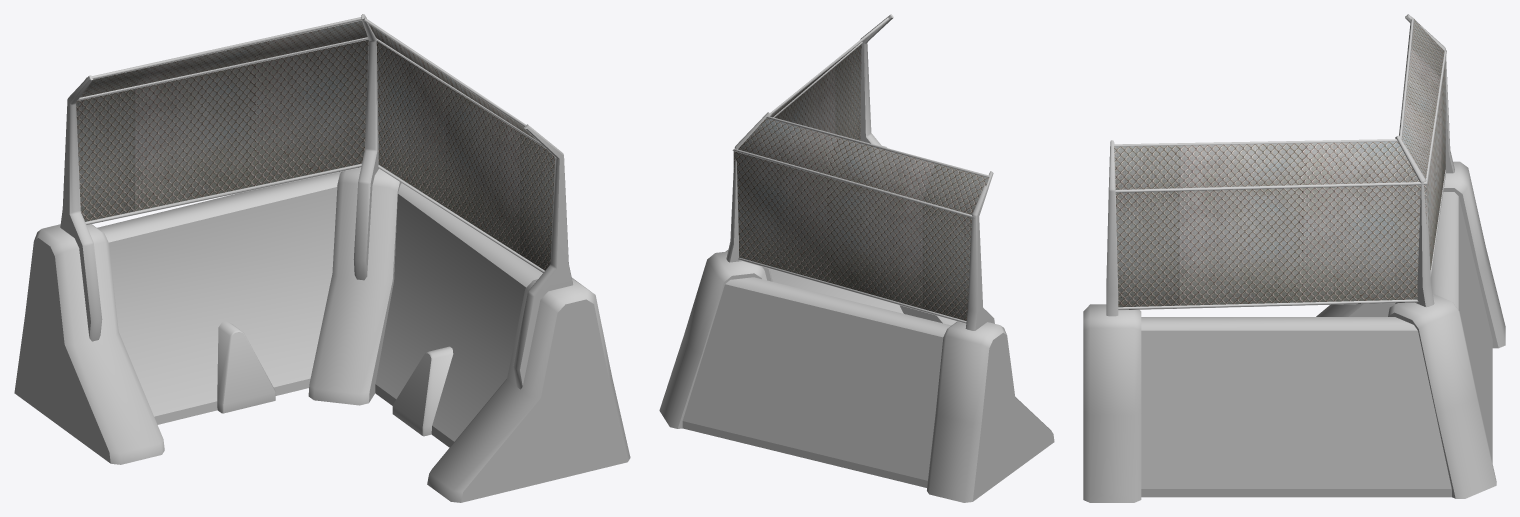
File: WallFence_angle90.fbx
3 views of the same model, side by side, from view 1: azimuth 30°, elevation 25°; view 2: azimuth 150°, elevation 25°; view 3: azimuth 270°, elevation 25° (orthographic). The views are drawn at different scales.
Parts seen in each view (by area): view 1: WallFence, fence06, fence07; view 2: WallFence, fence06, fence07; view 3: WallFence, fence06, fence07.
Boxes of the visible parts, x1=… form: WallFence: x1=14, y1=14, x2=630, y2=502; fence06: x1=76, y1=20, x2=555, y2=270; fence07: x1=77, y1=17, x2=545, y2=272; WallFence: x1=659, y1=14, x2=1054, y2=502; fence06: x1=733, y1=43, x2=988, y2=320; fence07: x1=732, y1=17, x2=989, y2=323; WallFence: x1=1083, y1=14, x2=1505, y2=502; fence06: x1=1114, y1=19, x2=1445, y2=307; fence07: x1=1114, y1=17, x2=1446, y2=310.
Bounding box in the file's own units: 366 × 307 × 365.
